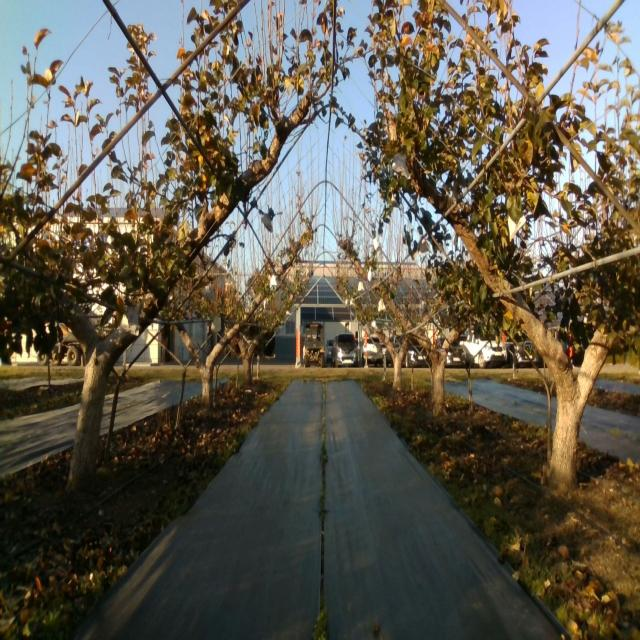pearbags: (120, 306, 140, 336), (391, 152, 411, 180), (508, 214, 526, 241), (261, 214, 274, 234), (202, 281, 214, 302)
